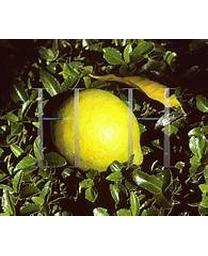lemon: (55, 89, 144, 172)
